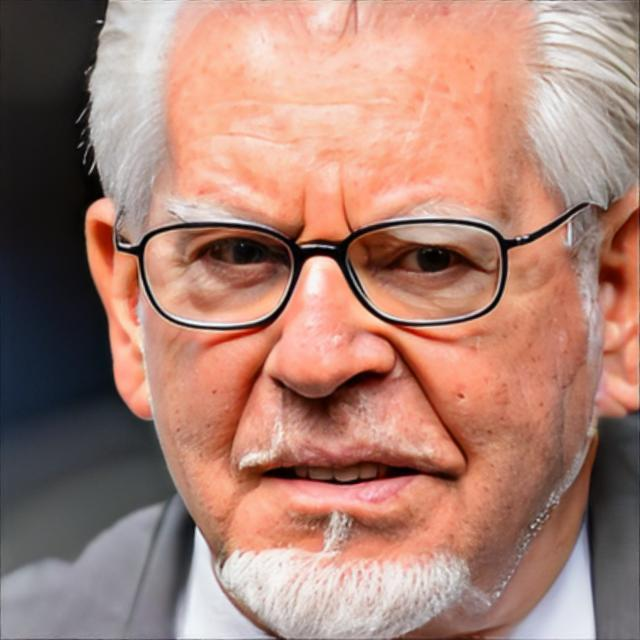disgust: (142, 0, 606, 640)
